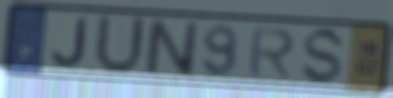9: (199, 23, 245, 78)
J: (50, 15, 90, 69)
N: (144, 17, 200, 79)
R: (246, 26, 298, 80)
S: (298, 26, 350, 87)
U: (91, 11, 148, 77)
